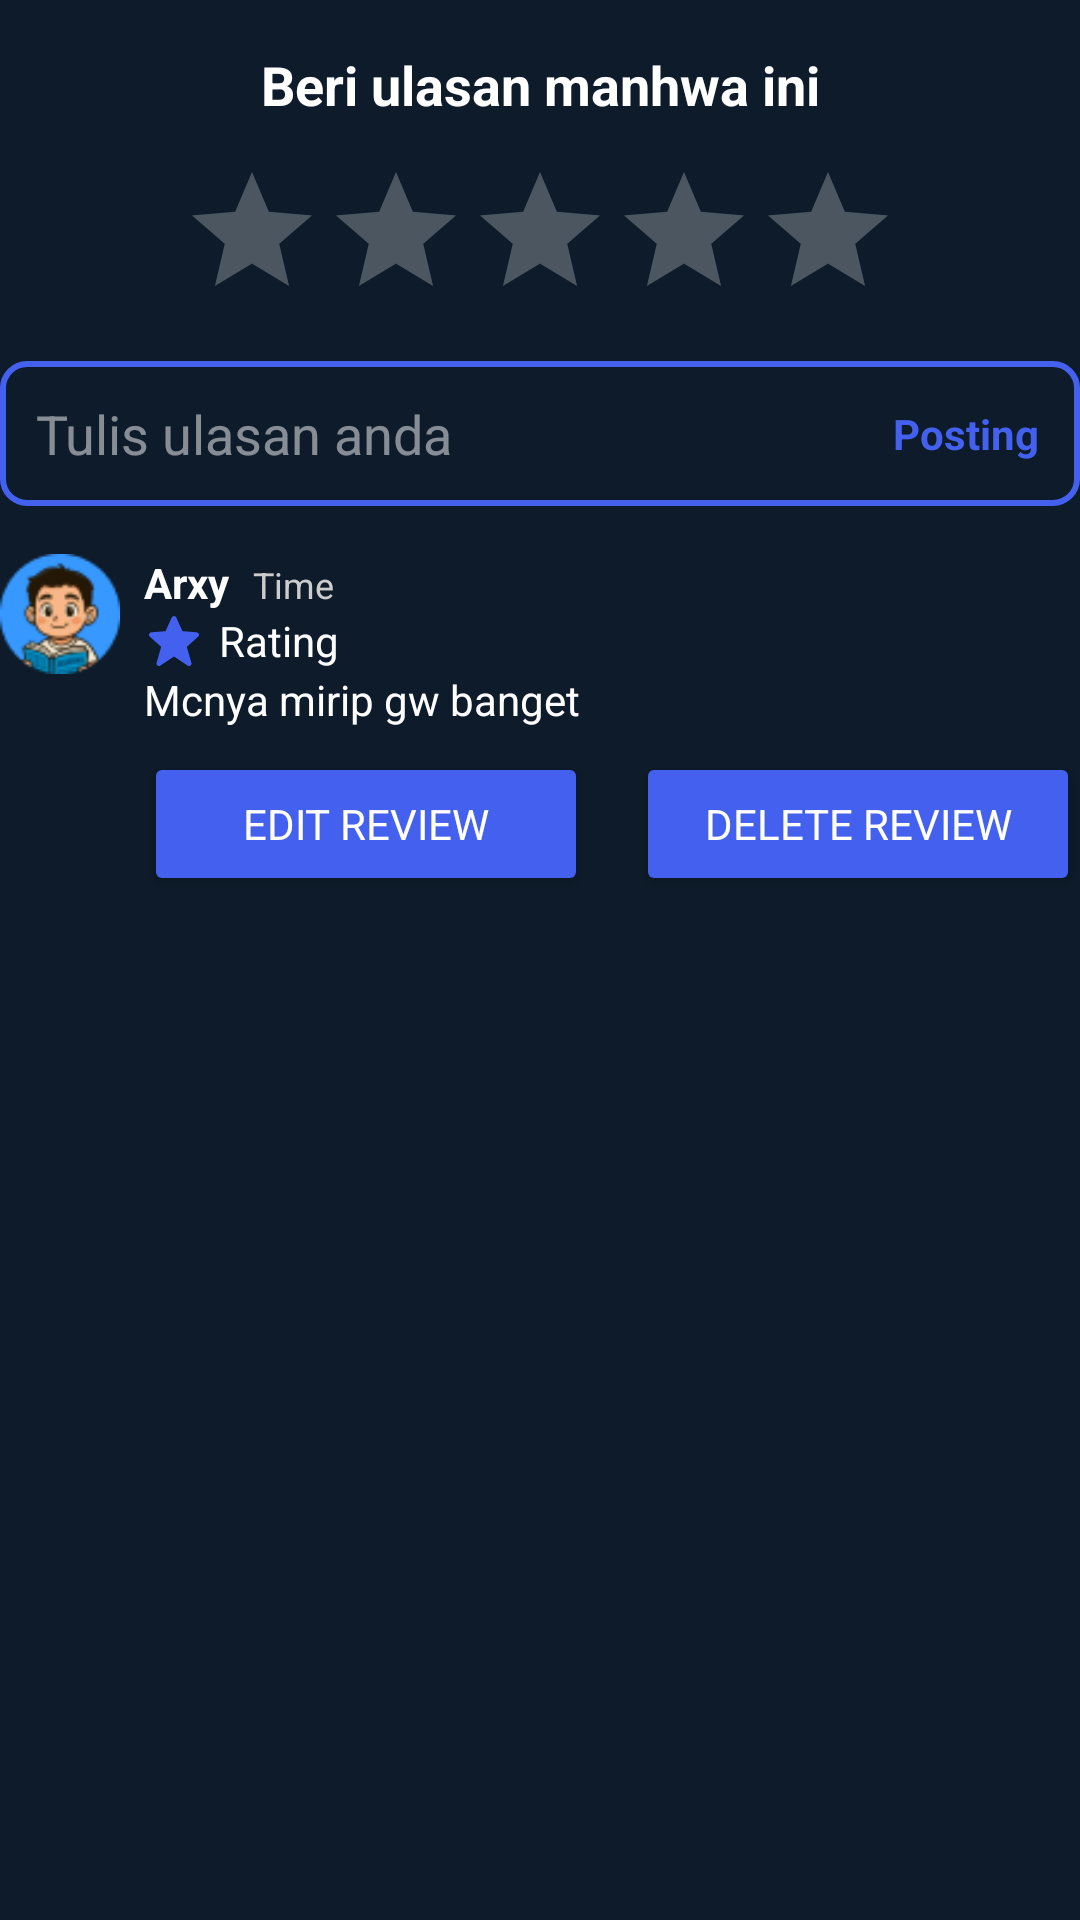

Screen size 1080 × 1920. Icon name, then its box in pixels as (x1, y1, x2, y2):
profile: (0, 554, 120, 674)
star: (149, 616, 199, 666)
